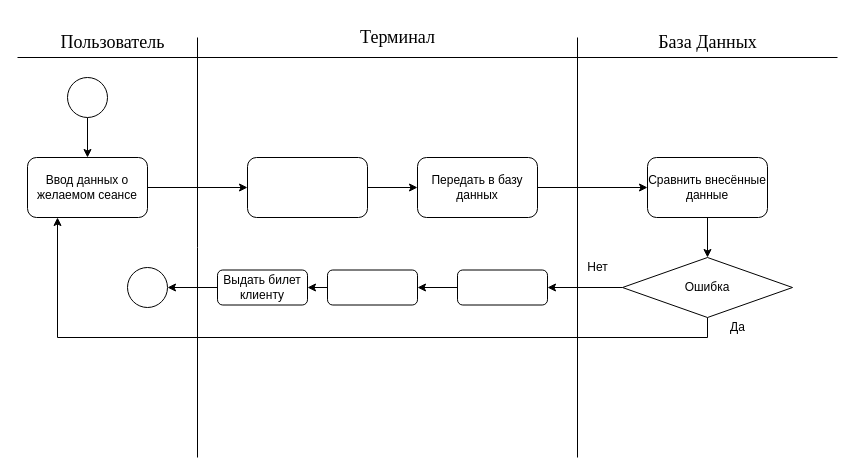
This 856x476 diagram has some shape labels left out. The shapes that lost their labels are listed below. From the top down, each one's centre as x and y in pixels, then its label:
At point 307,187: "Сохранить выбранные данные".
At point 372,287: "Распечатать билет".
At point 502,287: "Проадть билет".
